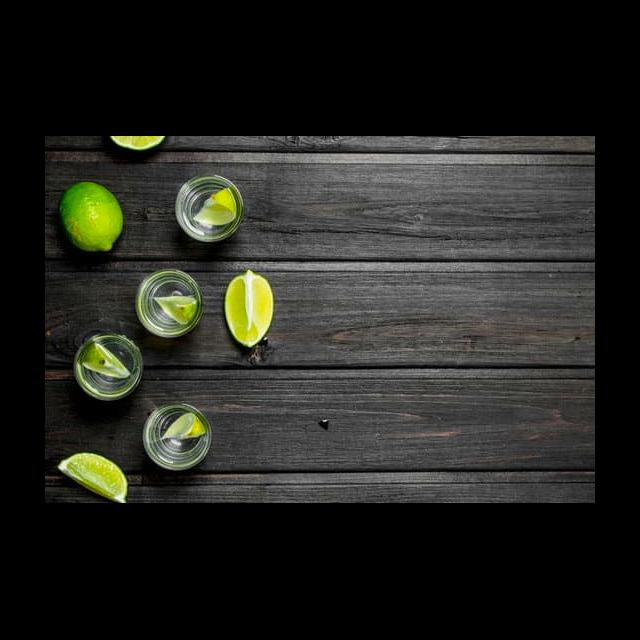lime: (55, 177, 126, 258)
